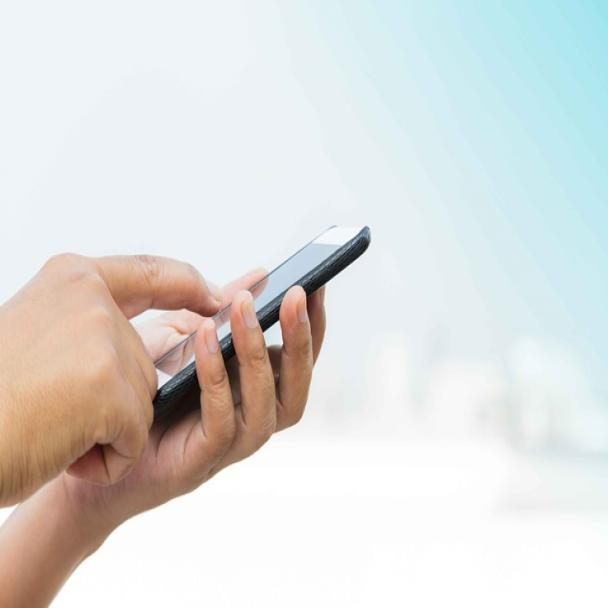Handphone: (131, 195, 380, 422)
